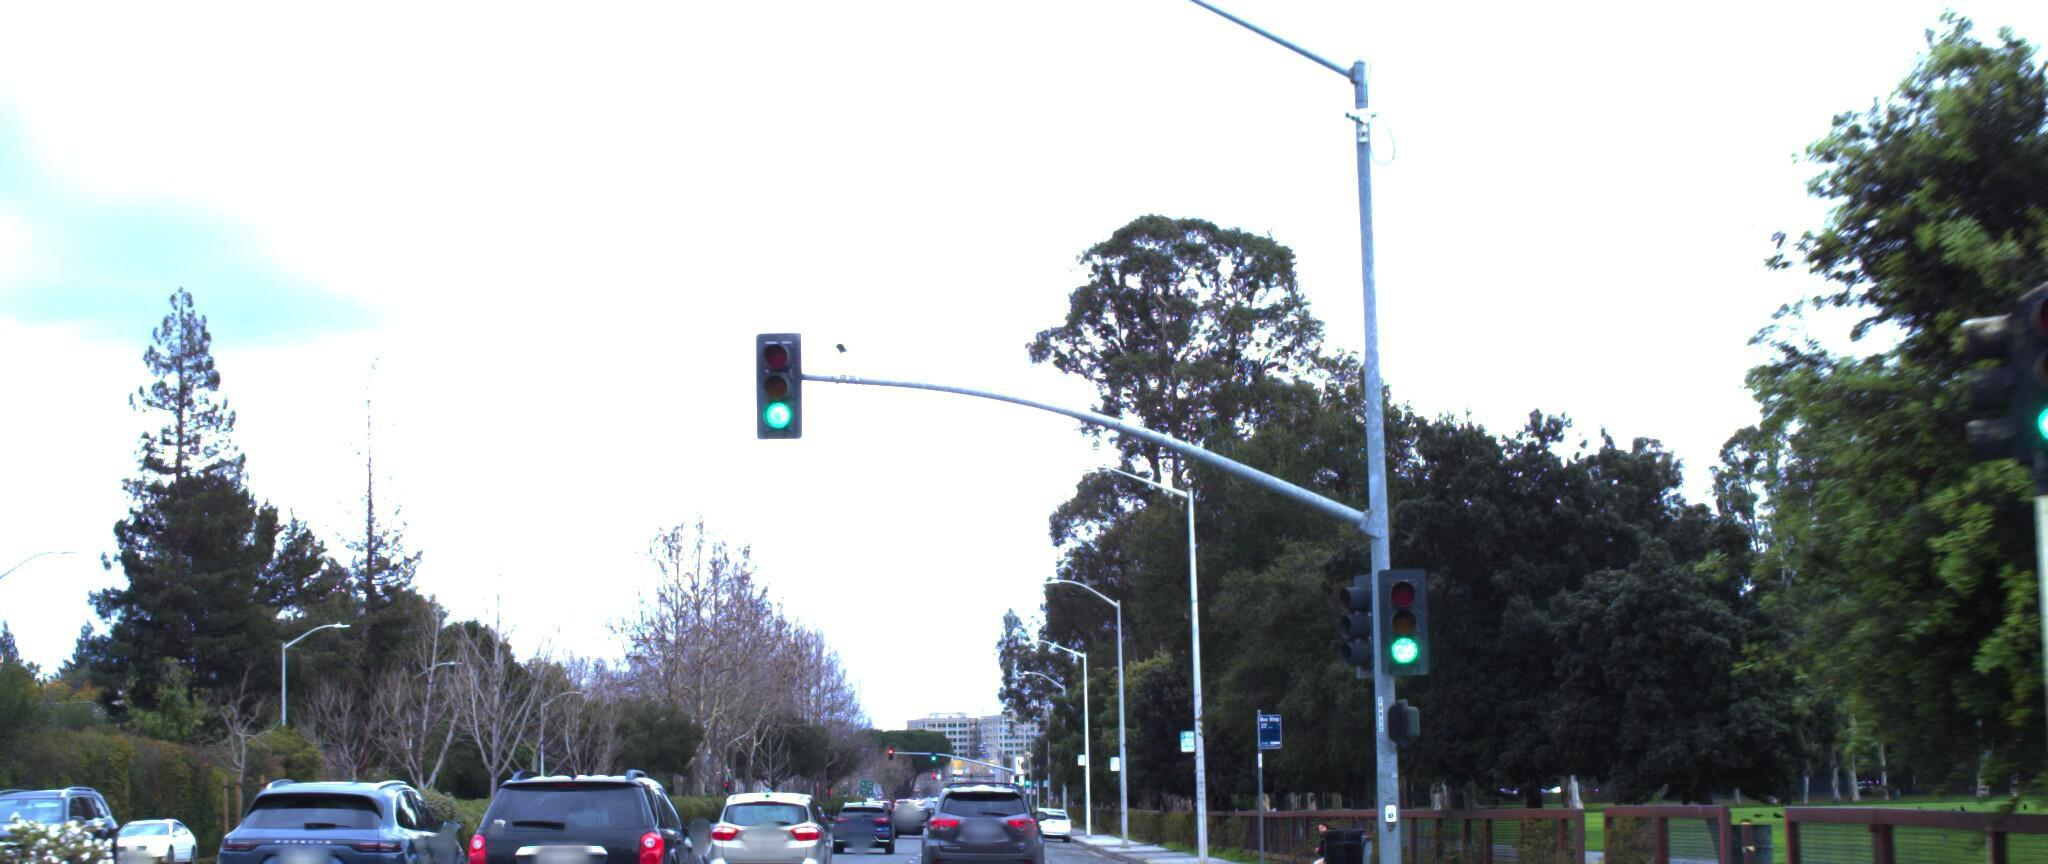car: (214, 773, 486, 864), (462, 769, 718, 864), (927, 782, 1054, 864), (701, 796, 832, 864), (0, 809, 16, 864)
